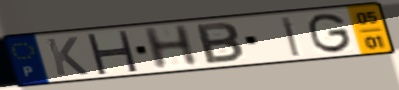B: (193, 21, 246, 66)
G: (306, 11, 354, 55)
H: (139, 23, 202, 72), (83, 30, 140, 75)
I: (279, 15, 303, 58)
K: (43, 35, 92, 77)
